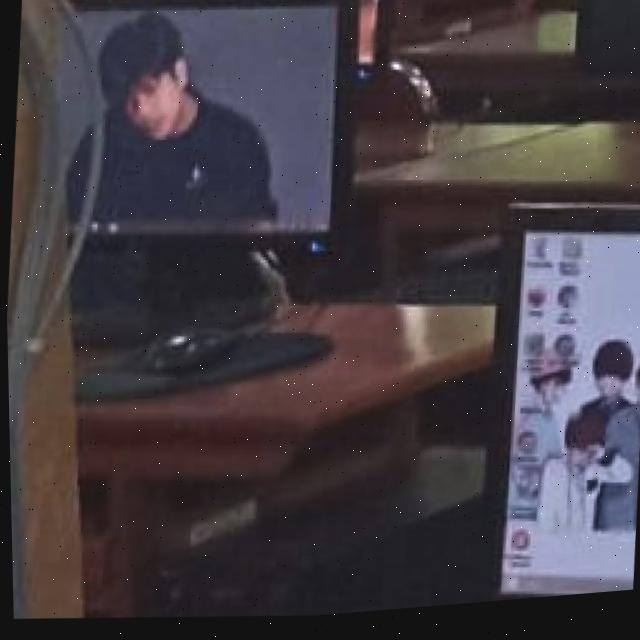onscreen: (81, 4, 337, 237), (498, 241, 640, 604)
